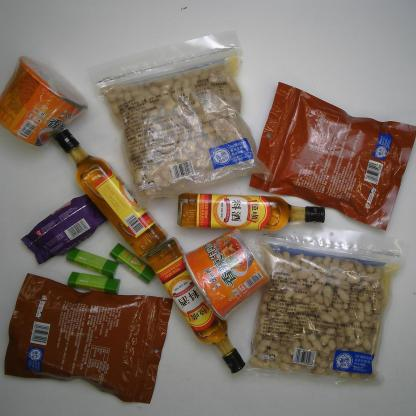Dessert: (18, 191, 111, 266)
Dried Food: (81, 27, 277, 218), (235, 220, 411, 390), (245, 75, 415, 233), (2, 270, 176, 407)
Instant Noodles: (180, 226, 272, 323), (1, 52, 91, 151)
Seasoner: (47, 126, 170, 262), (143, 234, 247, 376), (172, 188, 330, 232)
Stationery: (105, 239, 160, 288), (64, 245, 122, 281), (64, 269, 124, 297)
